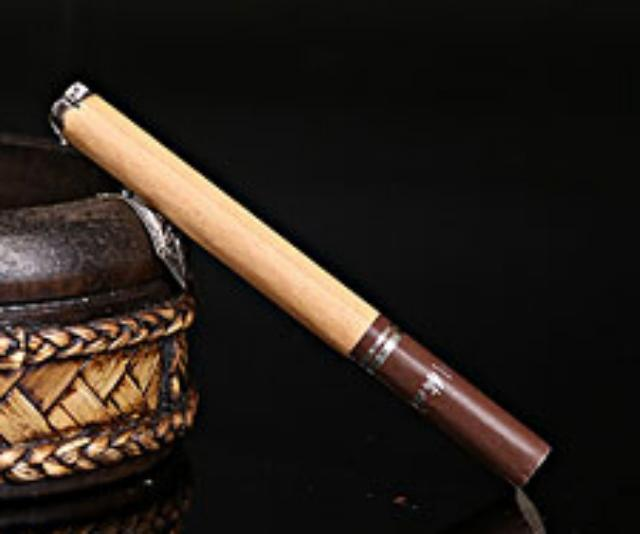Cigarette: (52, 78, 550, 485)
